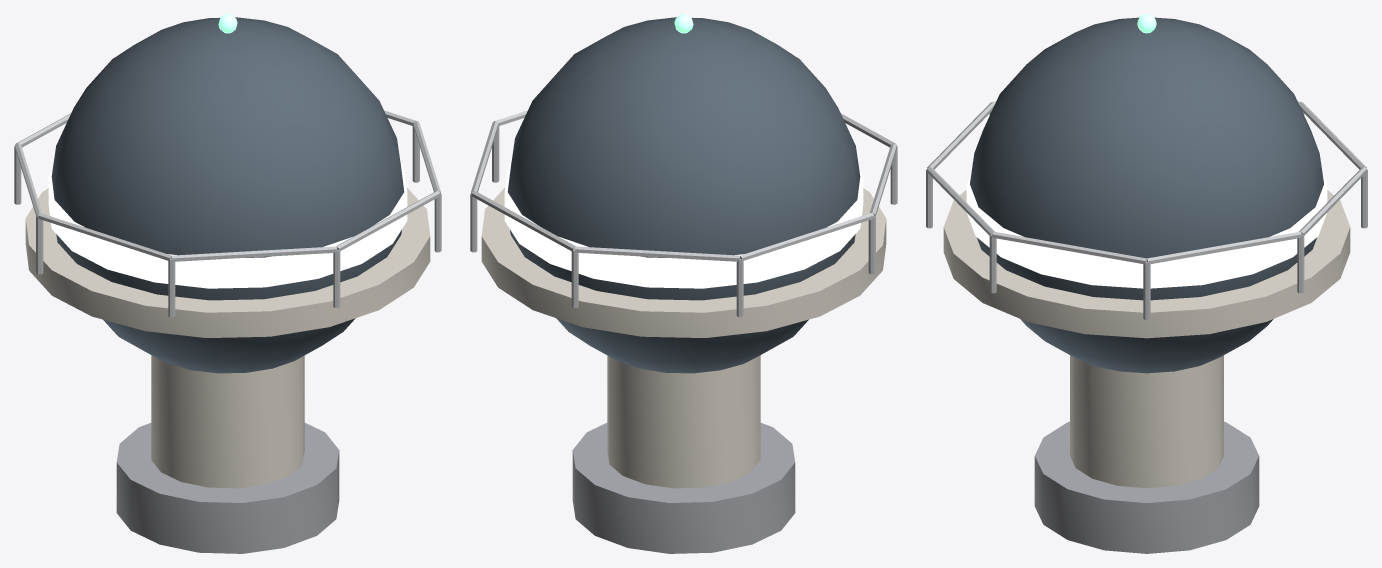
Rendered from render.glb.
3 views of the same model, side by side, from view 1: azimuth 30°, elevation 25°; view 2: azimuth 150°, elevation 25°; view 3: azimuth 270°, elevation 25° (orthographic).
Visible parts, largest first — view 1: dome, ring, stalk, base, glow_band, balcony; view 2: dome, ring, stalk, base, glow_band, balcony; view 3: dome, ring, stalk, base, glow_band, balcony.
Boxes of the visible parts, bbox=[...] form: dome: bbox=[51, 17, 404, 373]; ring: bbox=[25, 187, 430, 337]; stalk: bbox=[151, 355, 304, 488]; base: bbox=[116, 423, 339, 553]; glow_band: bbox=[48, 165, 407, 288]; balcony: bbox=[14, 110, 441, 317]; dome: bbox=[507, 17, 860, 373]; ring: bbox=[481, 187, 886, 337]; stalk: bbox=[607, 355, 760, 488]; base: bbox=[572, 423, 795, 553]; glow_band: bbox=[504, 165, 863, 288]; balcony: bbox=[470, 110, 897, 317]; dome: bbox=[970, 17, 1323, 373]; ring: bbox=[943, 190, 1350, 338]; stalk: bbox=[1070, 355, 1223, 488]; base: bbox=[1034, 421, 1259, 553]; glow_band: bbox=[966, 172, 1327, 288]; balcony: bbox=[926, 101, 1367, 319].
Size of the model in its own units: 6.29 by 7.74 by 6.3.
